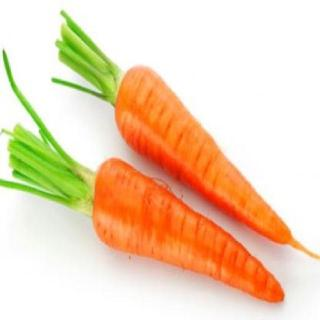carrot: (114, 61, 304, 252), (92, 154, 288, 308)
